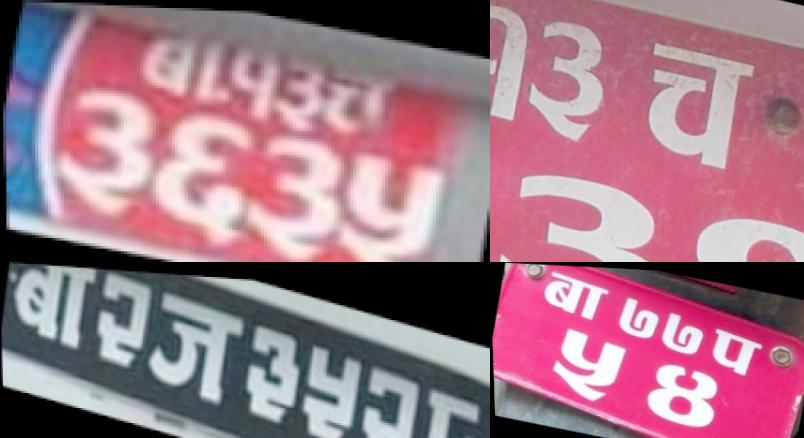1: (490, 0, 542, 124), (221, 41, 286, 118)
2: (662, 186, 804, 262), (88, 267, 153, 370), (353, 351, 423, 438)
3: (490, 149, 682, 262), (42, 78, 166, 219), (233, 126, 355, 262), (518, 4, 620, 144), (235, 316, 306, 428), (270, 49, 332, 129)
4: (643, 358, 722, 428)
5: (325, 143, 449, 262), (294, 336, 365, 438), (547, 326, 629, 406)
6: (140, 104, 267, 240)
7: (658, 310, 706, 354), (615, 294, 661, 339)
8: (413, 377, 484, 438)
ba: (5, 262, 98, 350), (132, 24, 224, 99), (538, 268, 612, 322)
cha: (622, 21, 767, 178), (310, 58, 395, 144)
ja: (141, 281, 244, 409)
pa: (705, 324, 763, 378)
